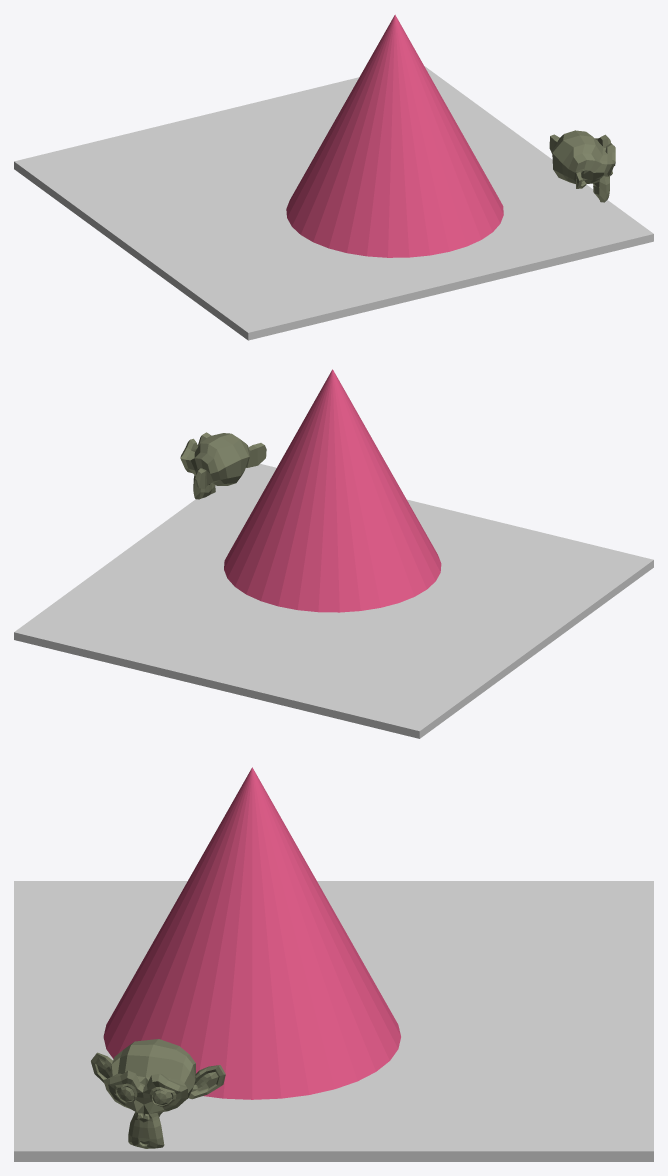
File: shadow_mapping_spots.glb
3 renders of one model, top to bottom at view 1: azimuth 30°, elevation 25°; view 2: azimuth 150°, elevation 25°; view 3: azimuth 270°, elevation 25°, orthographic. The views are drawn at different scales.
Parts seen in each view (by area): view 1: Cube, Cone, Suzanne; view 2: Cube, Cone, Suzanne; view 3: Cube, Cone, Suzanne.
Boxes of the visible parts, x1=… form: Cube: x1=14, y1=66, x2=653, y2=340; Cone: x1=286, y1=14, x2=503, y2=257; Suzanne: x1=549, y1=130, x2=615, y2=202; Cube: x1=14, y1=463, x2=653, y2=738; Cone: x1=224, y1=369, x2=441, y2=612; Suzanne: x1=180, y1=432, x2=266, y2=499; Cube: x1=14, y1=881, x2=653, y2=1161; Cone: x1=103, y1=767, x2=400, y2=1099; Suzanne: x1=91, y1=1039, x2=225, y2=1148.
Bounding box in the file's own units: 12.86 × 6.1 × 12.62.
